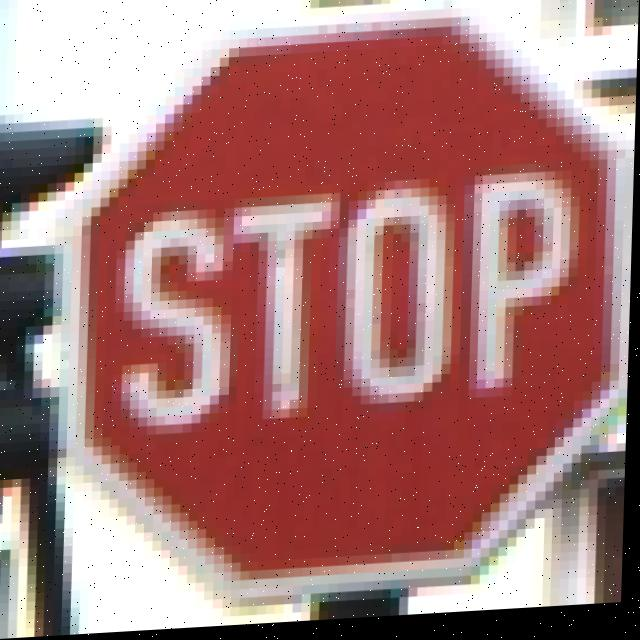stop: (62, 0, 639, 618)
